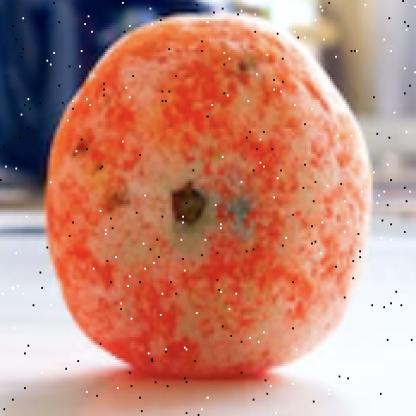rotten: (46, 17, 372, 376)
